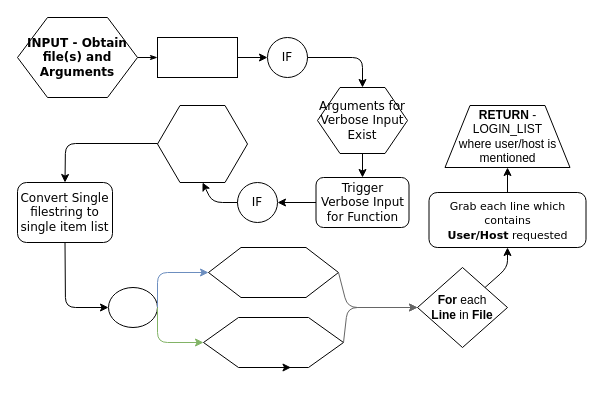
Image size: 604x393. Some labels were removed from this diagram. The centre of each missing label's shape, as x and y in pixels:
"FILTER" belongs at (x=133, y=307).
"Preliminary Checks" belongs at (x=197, y=57).
"Single string is given for File" belongs at (x=202, y=143).
"User requests a HOST report" belongs at (x=273, y=342).
"User Requests a USER report" belongs at (x=273, y=272).
